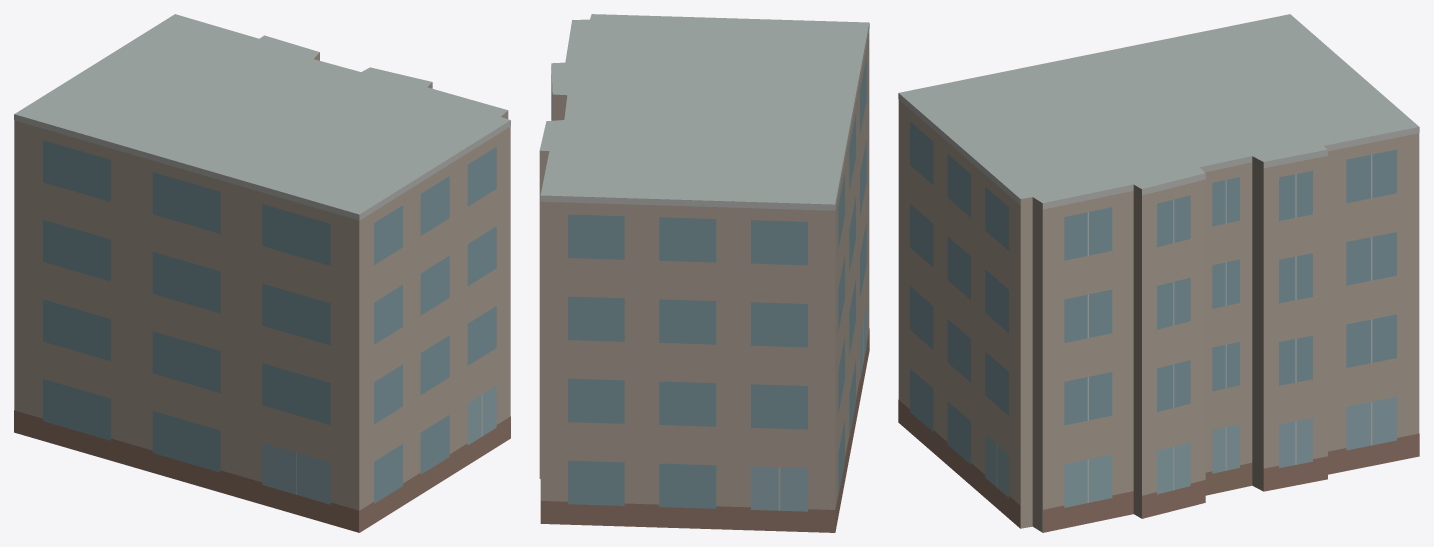
The model's file is survey-upis-33029730.glb.
The picture shows the model from 3 angles, left to right: view 1: azimuth 30°, elevation 25°; view 2: azimuth 150°, elevation 25°; view 3: azimuth 270°, elevation 25°; orthographic projection. The views are drawn at different scales.
Parts seen in each view (by area): view 1: survey-upis-33029730.tmp; view 2: survey-upis-33029730.tmp; view 3: survey-upis-33029730.tmp.
Part boxes in pixels (x1=…): survey-upis-33029730.tmp: x1=14, y1=14, x2=510, y2=532; survey-upis-33029730.tmp: x1=539, y1=14, x2=869, y2=532; survey-upis-33029730.tmp: x1=898, y1=14, x2=1419, y2=532.
Size of the model in its own units: 15.77 by 12.8 by 18.35.
